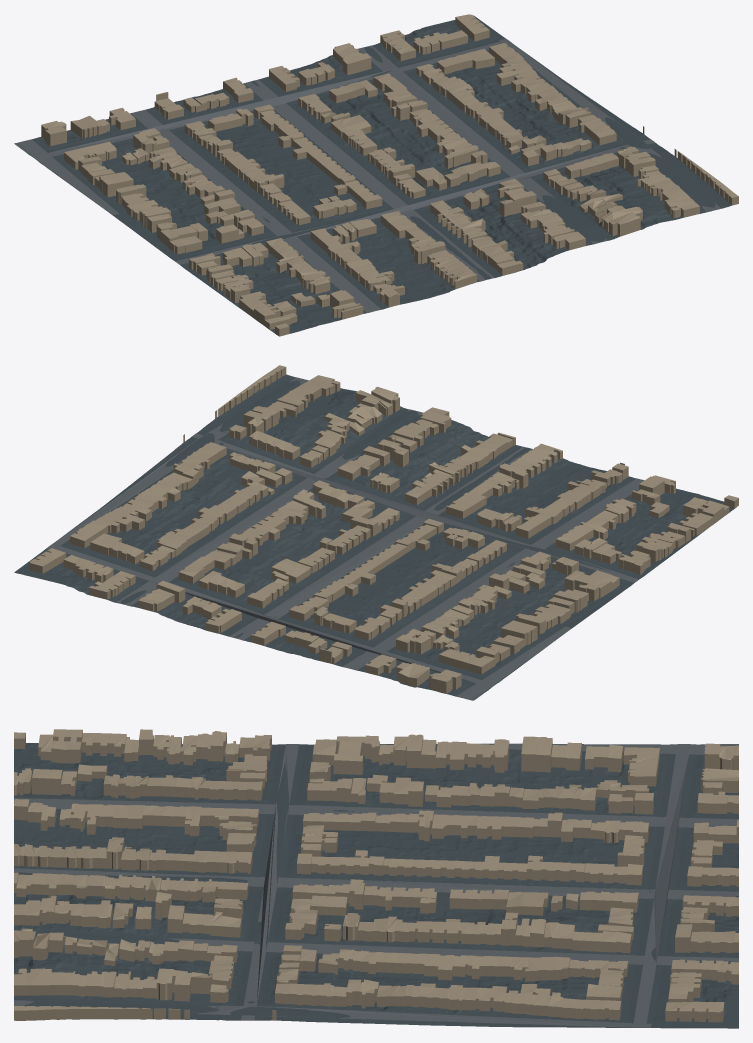
Rendered from epsg26910-1415-10882.lod0.glb.
The picture shows the model from 3 angles, top to bottom: view 1: azimuth 30°, elevation 25°; view 2: azimuth 150°, elevation 25°; view 3: azimuth 270°, elevation 25°; orthographic projection. The views are drawn at different scales.
Visible parts, largest first — view 1: epsg26910-1415-10882-lod0; view 2: epsg26910-1415-10882-lod0; view 3: epsg26910-1415-10882-lod0.
Boxes of the visible parts, x1=… form: epsg26910-1415-10882-lod0: x1=14, y1=14, x2=738, y2=336; epsg26910-1415-10882-lod0: x1=14, y1=365, x2=738, y2=700; epsg26910-1415-10882-lod0: x1=14, y1=729, x2=738, y2=1028.
Bounding box in the file's own units: 384 × 28.65 × 384.
